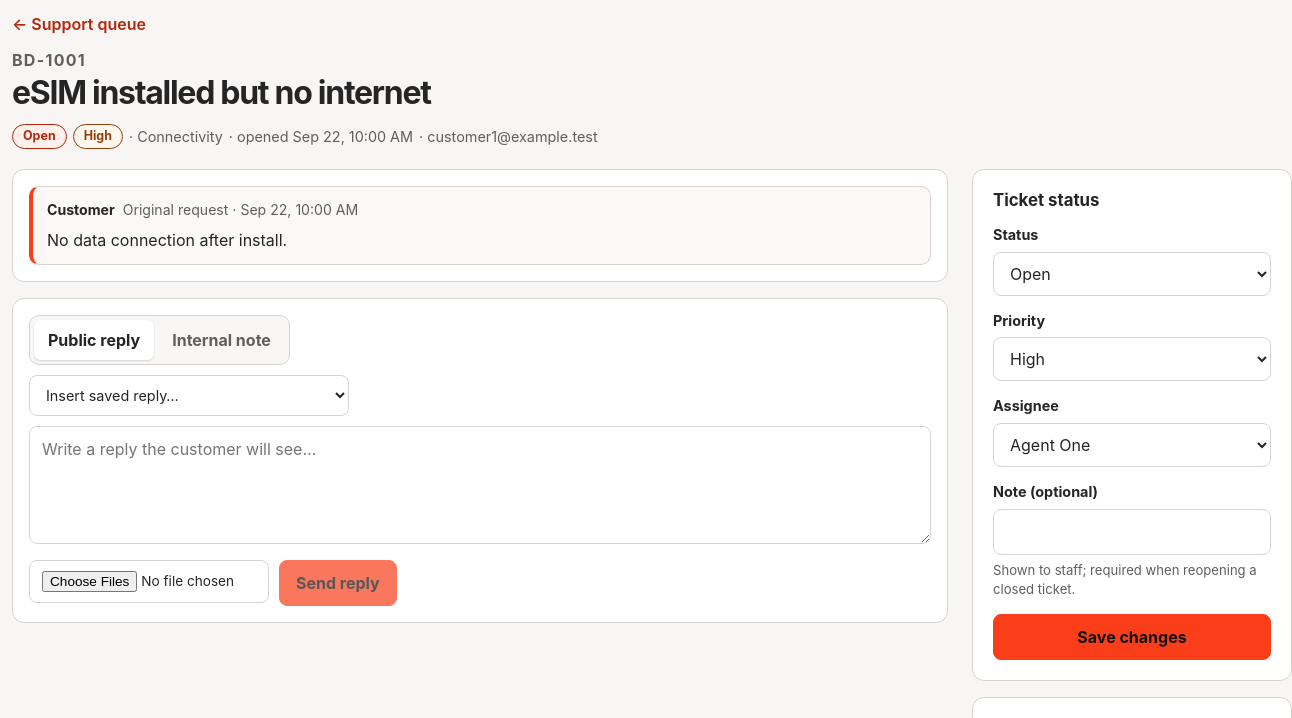
it: TicketDetail saved replies › inserts an editable saved reply without sending it
The image size is (1292, 718).
Select "Connectivity follow-up" in the dropdown named "insert a saved reply" at [189, 396], box x1=29 y1=375 x2=349 y2=416
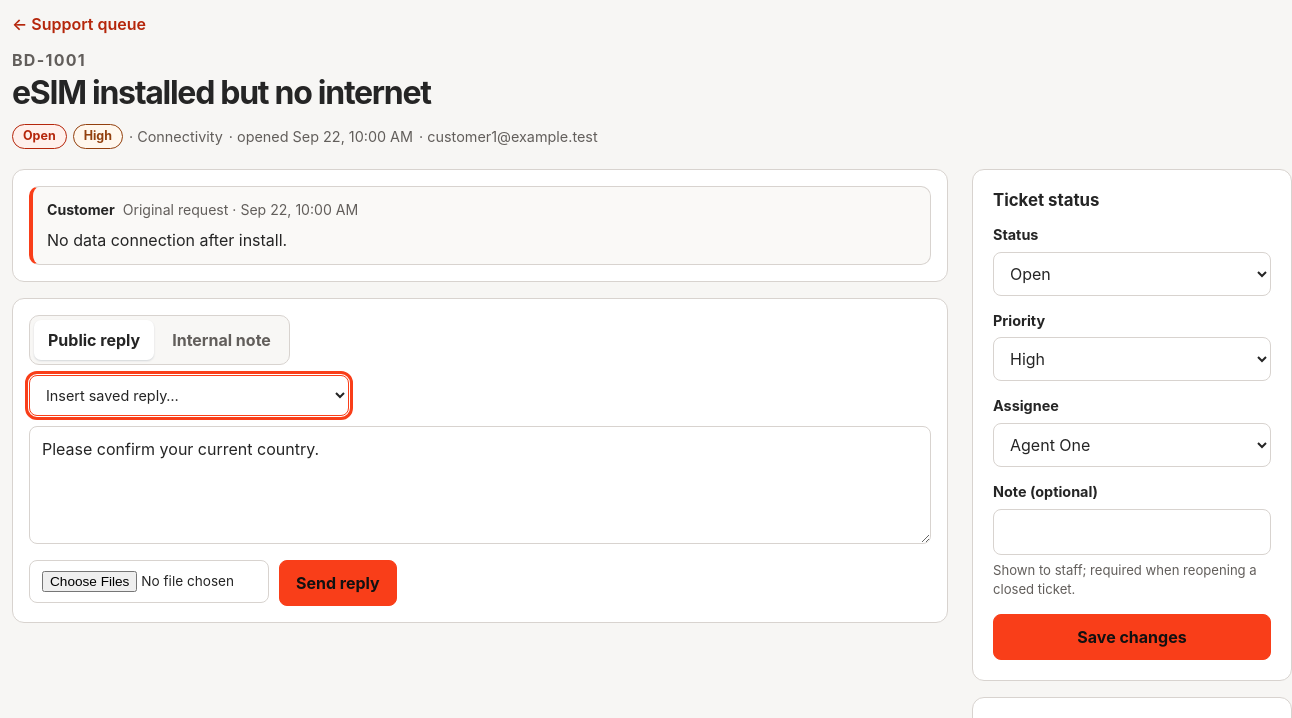
Expected: the text box named "Public reply" holds "Please confirm your current country.", x1=29 y1=426 x2=931 y2=544
